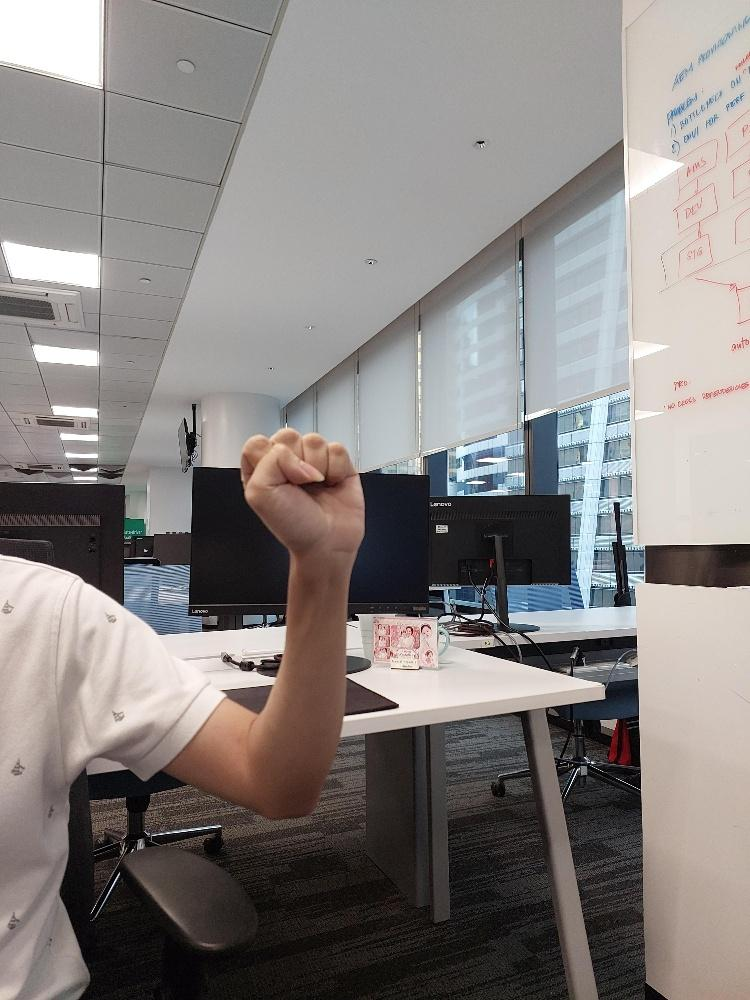s: (236, 424, 366, 556)
